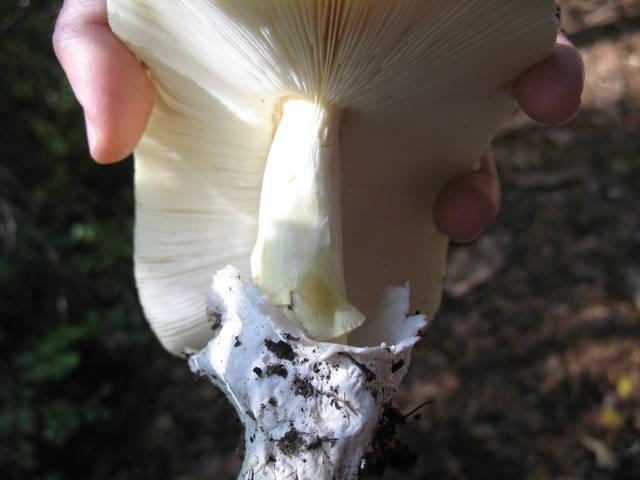Edible Mushroom: (103, 0, 568, 479)
